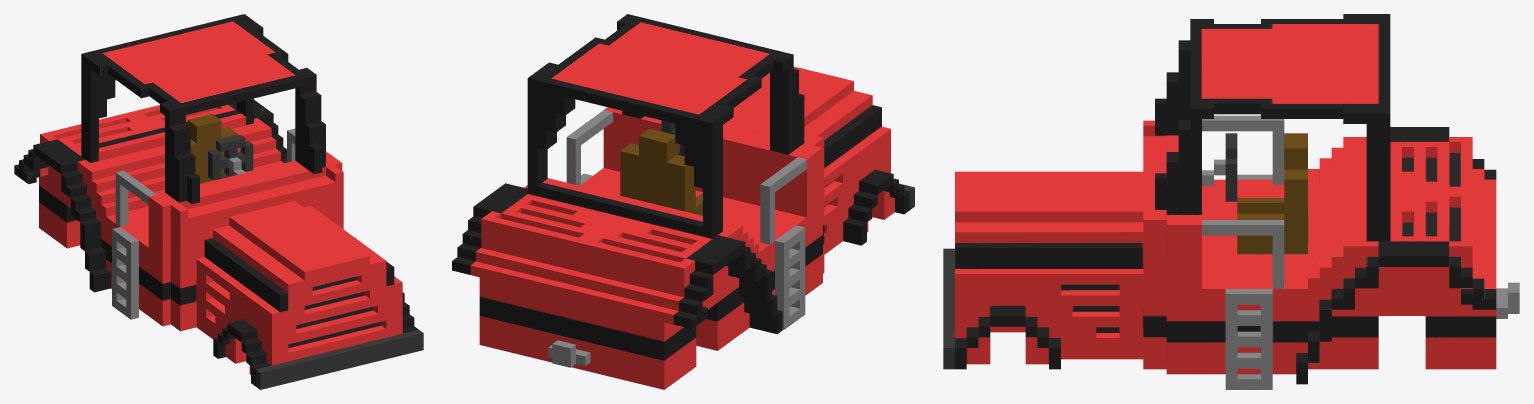
The model's file is Tractor_2.obj.
3 views of the same model, side by side, from view 1: azimuth 30°, elevation 25°; view 2: azimuth 150°, elevation 25°; view 3: azimuth 270°, elevation 25° (orthographic). The views are drawn at different scales.
Visible parts, largest first — view 1: Tractor_2_Tractor_2.001; view 2: Tractor_2_Tractor_2.001; view 3: Tractor_2_Tractor_2.001.
Part boxes in pixels (x1,y1,x2,y2): Tractor_2_Tractor_2.001: [14, 14, 423, 389]; Tractor_2_Tractor_2.001: [452, 14, 914, 389]; Tractor_2_Tractor_2.001: [943, 14, 1519, 389].
Bounding box in the file's own units: 2.6 × 2.5 × 4.9.
